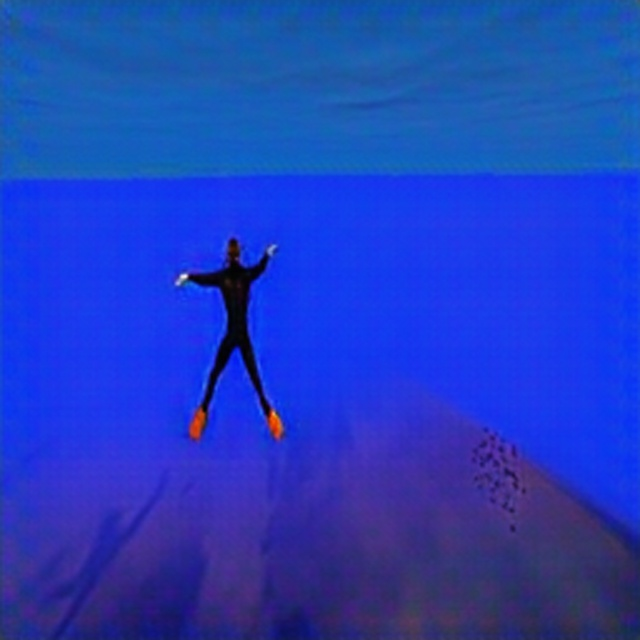diver: (173, 233, 286, 444)
